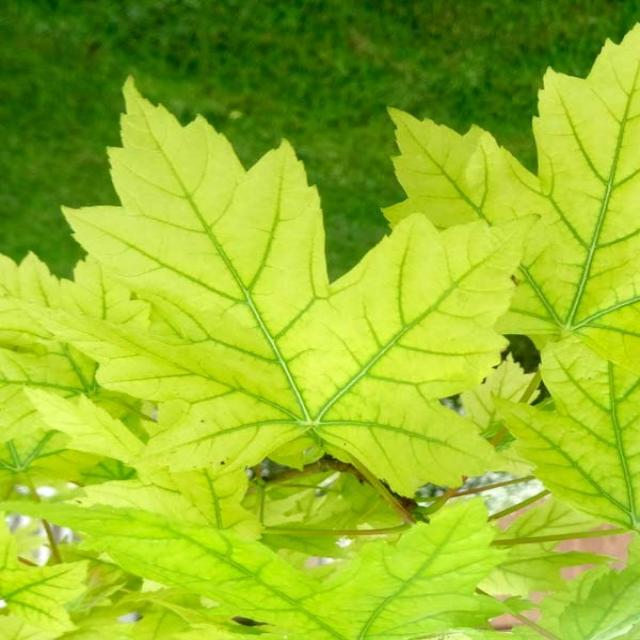Chlorosis: (5, 69, 640, 640)
